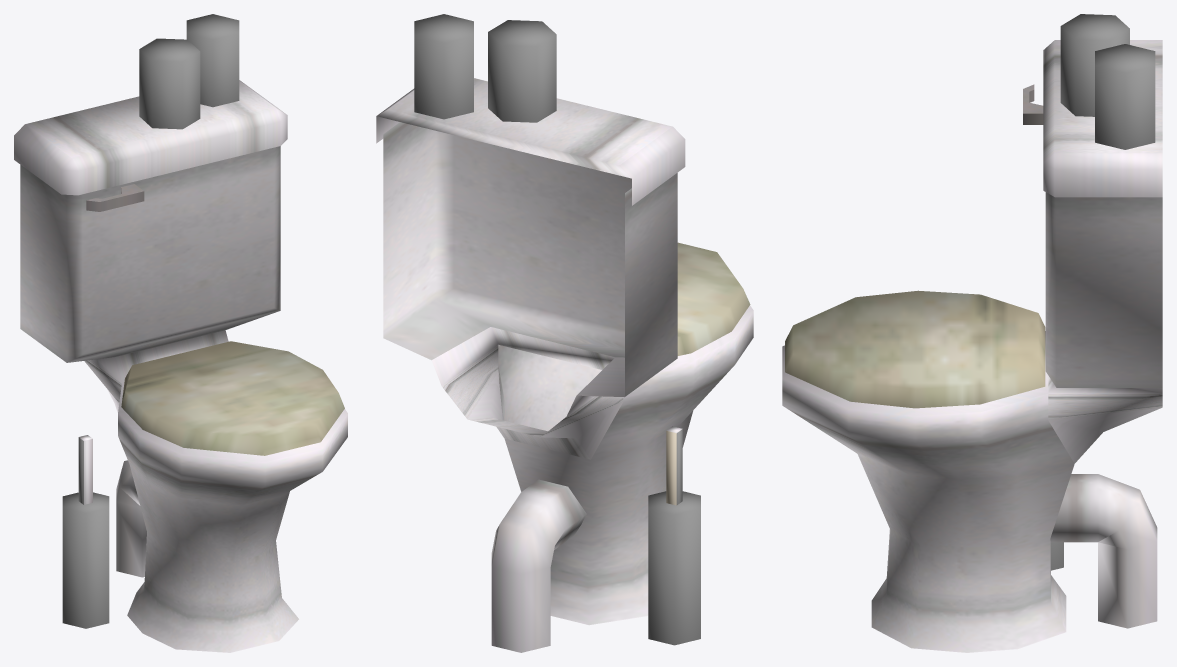
Rendered from cj_toilet4.obj.
The picture shows the model from 3 angles, left to right: view 1: azimuth 30°, elevation 25°; view 2: azimuth 150°, elevation 25°; view 3: azimuth 270°, elevation 25°; orthographic projection. The views are drawn at different scales.
Visible parts, largest first — view 1: CJ_TOILET4; view 2: CJ_TOILET4; view 3: CJ_TOILET4.
Part boxes in pixels (x1,y1,x2,y2): CJ_TOILET4: (14,14,347,652); CJ_TOILET4: (376,14,753,652); CJ_TOILET4: (782,14,1162,652).
Size of the model in its own units: 0.5049 by 1.08 by 0.6287.
